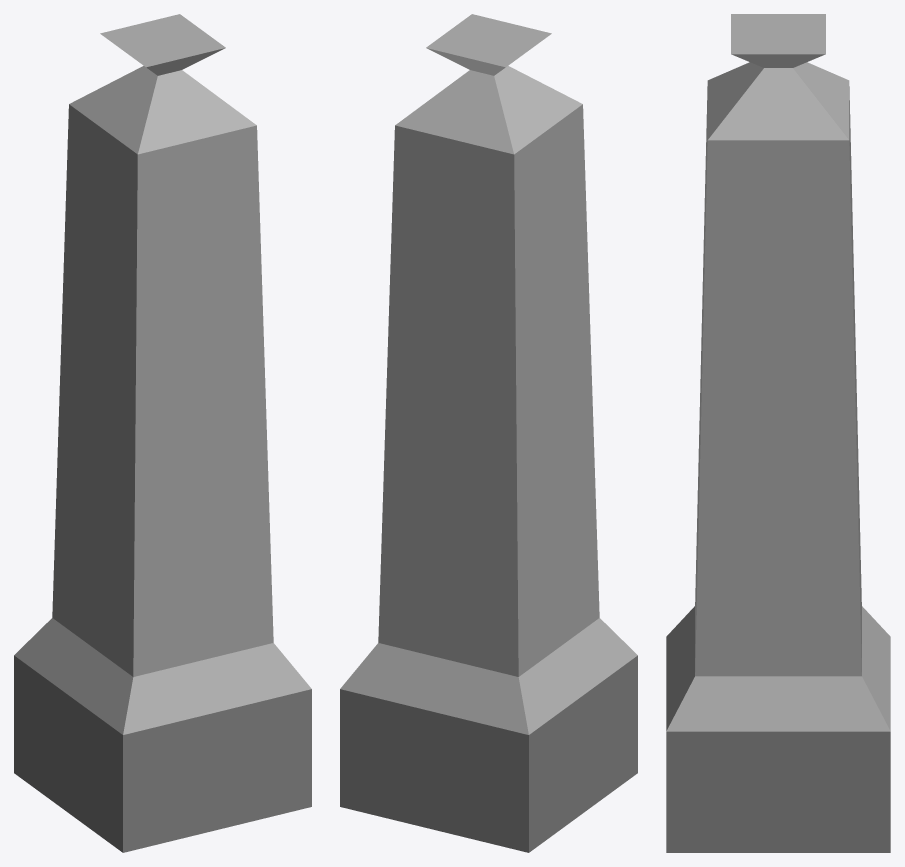
Rendered from Obelisco.fbx.
The picture shows the model from 3 angles, left to right: view 1: azimuth 30°, elevation 25°; view 2: azimuth 150°, elevation 25°; view 3: azimuth 270°, elevation 25°; orthographic projection. The views are drawn at different scales.
Visible parts, largest first — view 1: Cube; view 2: Cube; view 3: Cube.
Part boxes in pixels (x1,y1,x2,y2): Cube: (14,14,311,852); Cube: (340,14,637,852); Cube: (666,14,890,852).
Size of the model in its own units: 2 by 7.58 by 2.
